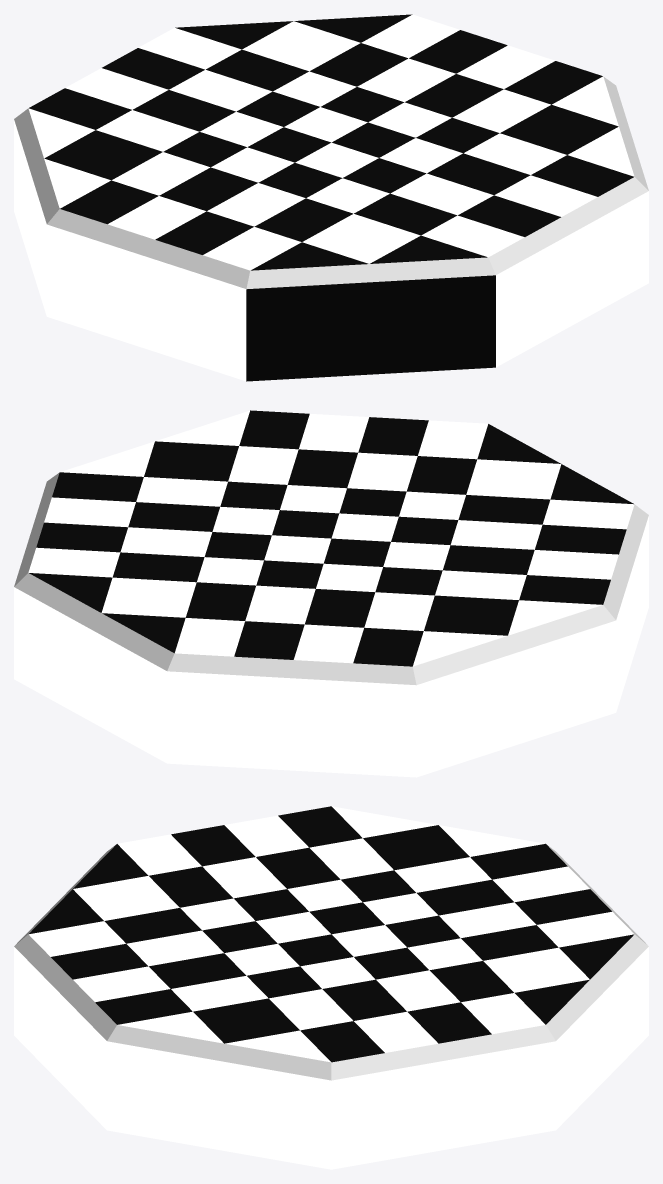
The model's file is MM_NatDanseGulv.glb.
3 views of the same model, one above another, from view 1: azimuth 30°, elevation 25°; view 2: azimuth 150°, elevation 25°; view 3: azimuth 270°, elevation 25° (orthographic). The views are drawn at different scales.
Parts seen in each view (by area): view 1: DanseGulv; view 2: DanseGulv; view 3: DanseGulv.
Boxes of the visible parts, x1,y1,x2,y2 form: DanseGulv: [14, 14, 648, 381]; DanseGulv: [14, 410, 648, 777]; DanseGulv: [14, 806, 648, 1169].
Bounding box in the file's own units: 2 × 0.3517 × 2.
3 materials, 1 textured.
